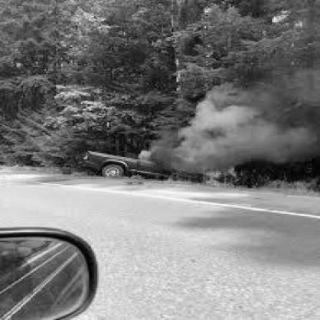Smoke: (196, 77, 308, 160)
